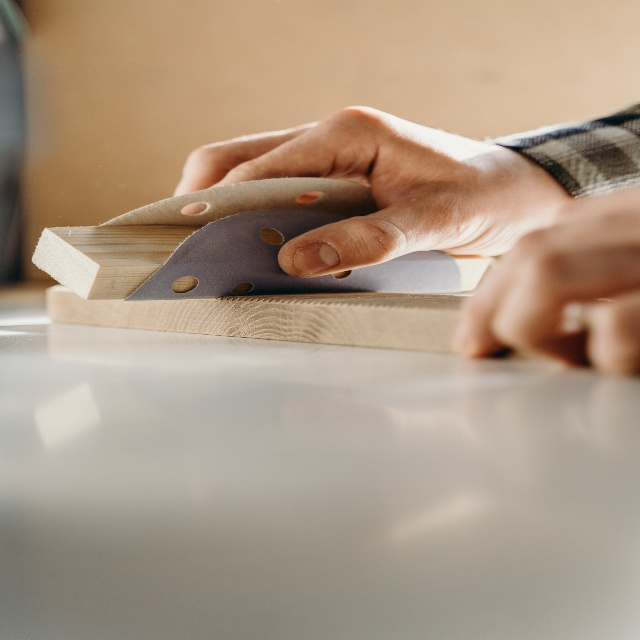Sin_guantes: (180, 100, 523, 272), (458, 206, 640, 350)
